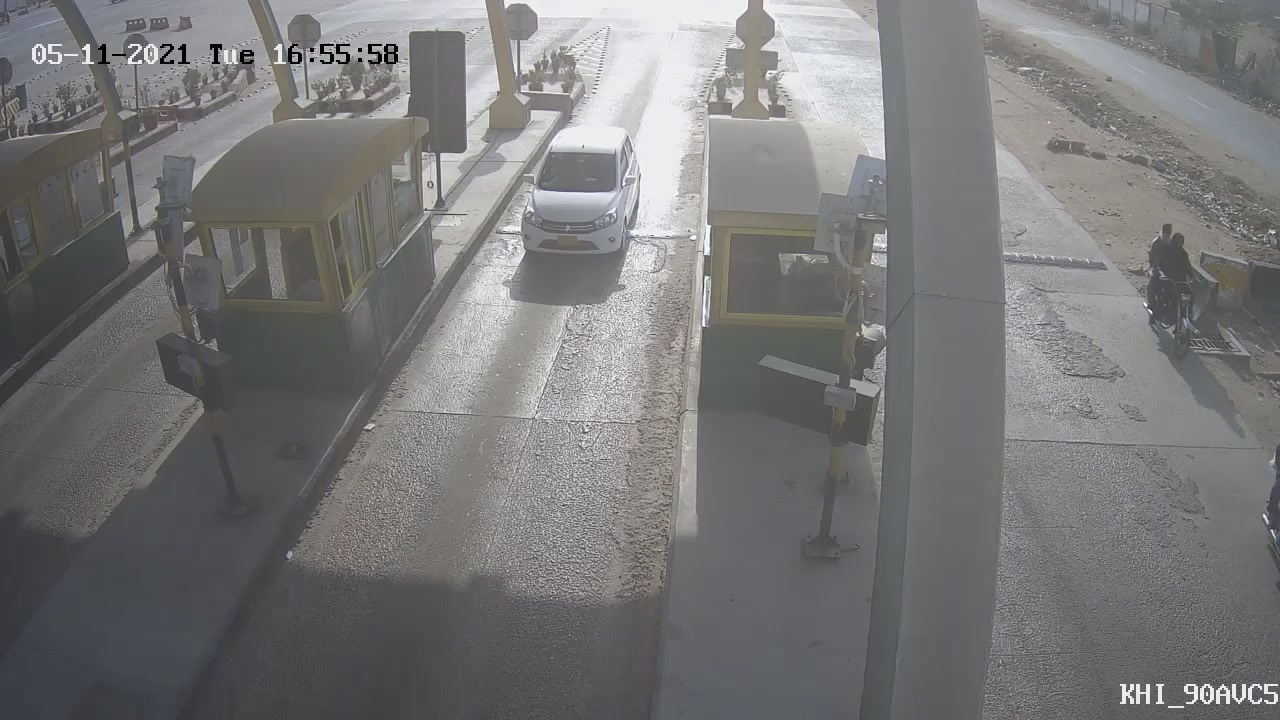F1: (498, 105, 661, 290)
